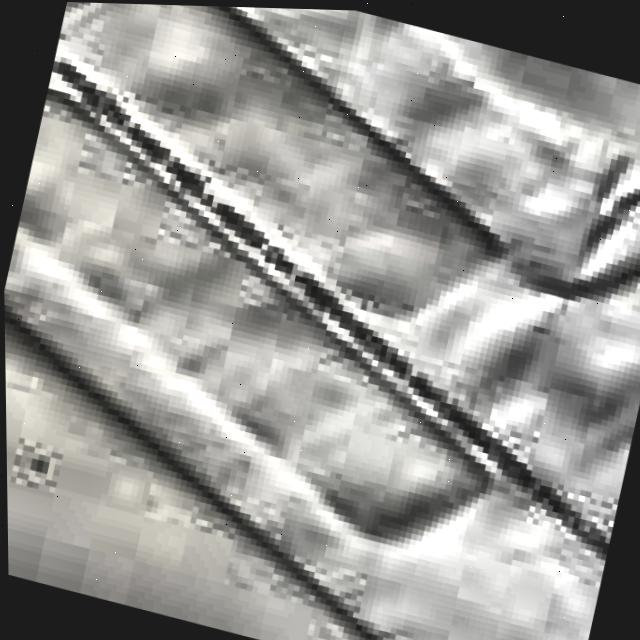paper: (3, 2, 640, 640)
